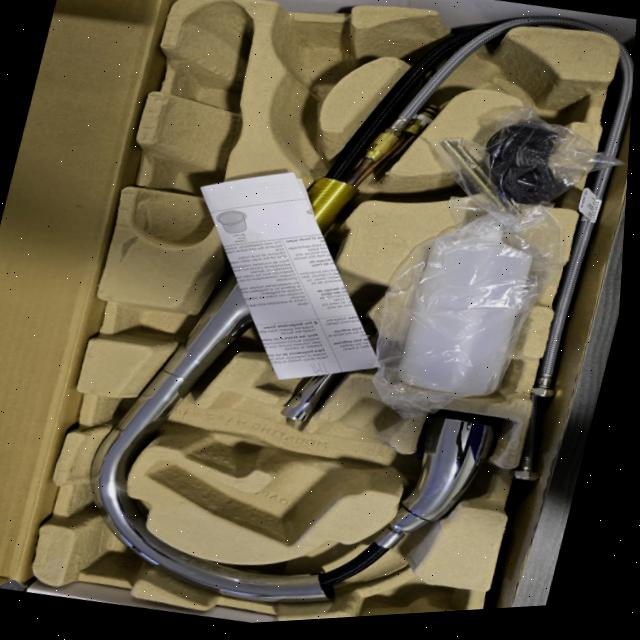1o: (85, 26, 501, 603)
2m: (145, 395, 406, 544)
3o: (393, 209, 534, 397)
4m: (128, 1, 252, 245)
5m: (278, 21, 351, 87)
6m: (485, 51, 586, 123)
7: (424, 114, 619, 233)
8: (194, 168, 383, 379)
